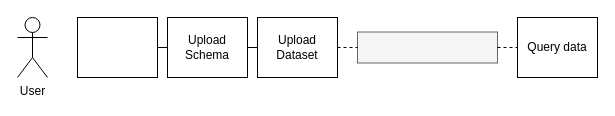
The diagram is 615 pixels wide and 116 high, and some of its shapes have lost their labels. The centre of each missing label's shape, as x and y in pixels:
"Generate Schema" goes at pixel 117 47.
"Wait for crawler to finish" goes at pixel 427 47.
